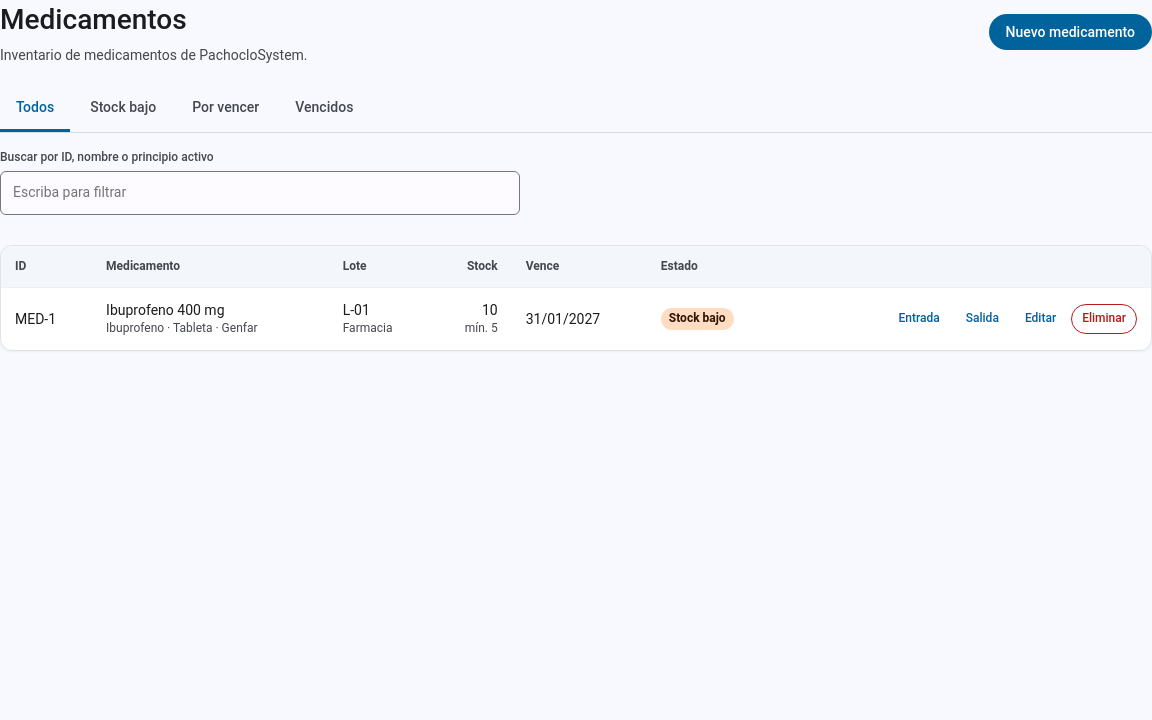
Scenario: interfaz React de medicamentos › marca en rojo una cantidad de movimiento no numérica y bloquea el envío
Expected: the text "Ibuprofeno 400 mg" is shown, [106,302,224,318]
Click the button with aria-label "Salida de stock de Ibuprofeno 400 mg". click: (982, 319)
box: [955,304,1010,334]
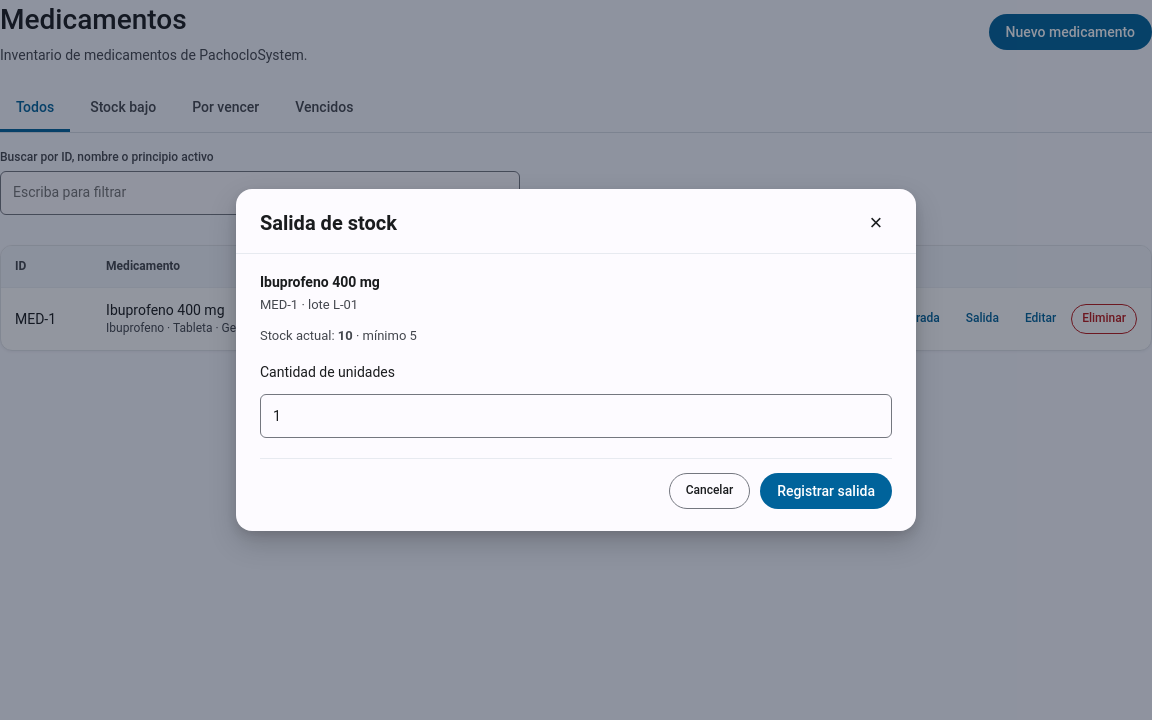
Replace the text in the field labelled "Cantidad de unidades" with "tres". click: (576, 416)
box: [260,394,892,438]
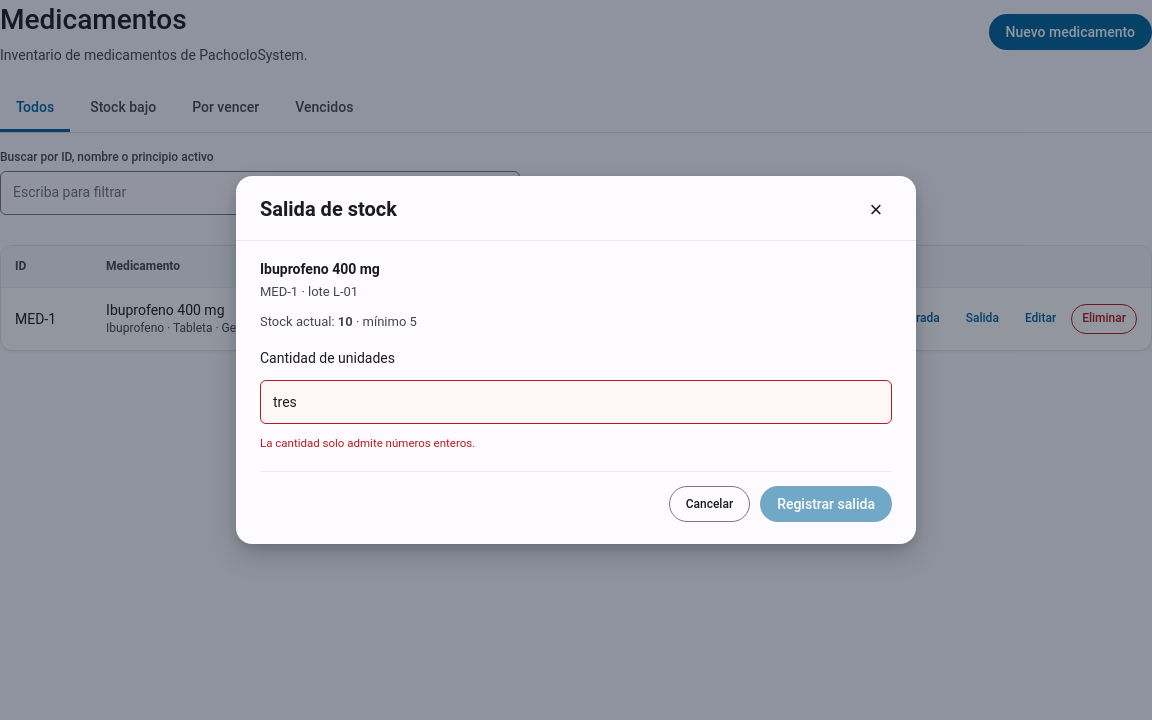
Expected: the text "La cantidad solo admite números enteros." is shown, [260,436,475,450]
Expected: the button "Registrar salida" is disabled, [760,486,892,522]
